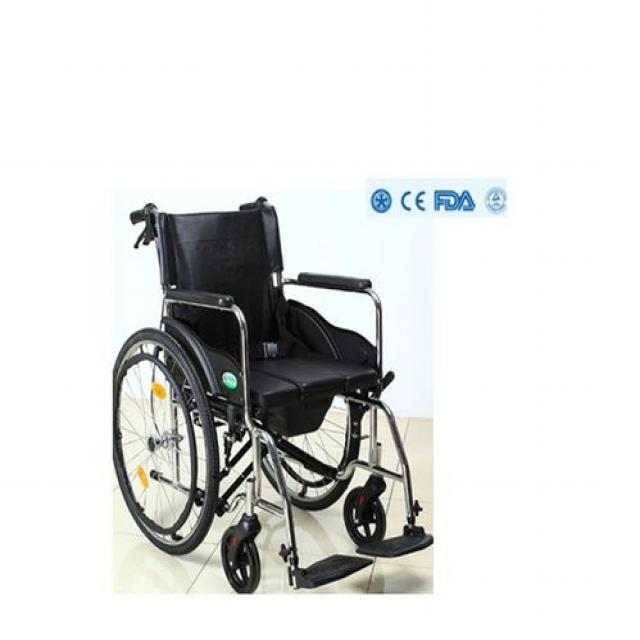wheelchair: (111, 193, 428, 589)
